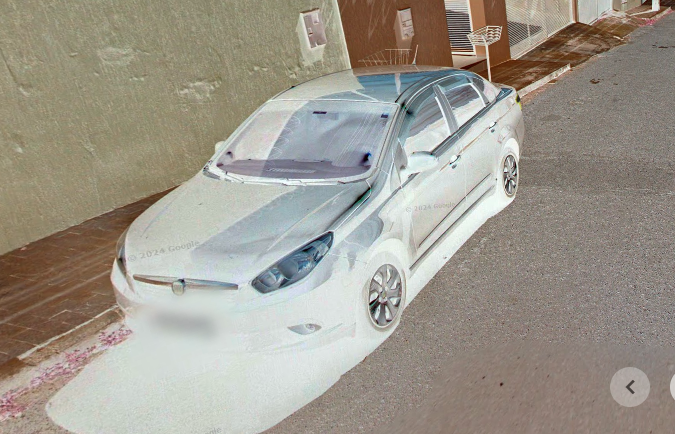car: (105, 43, 542, 363)
